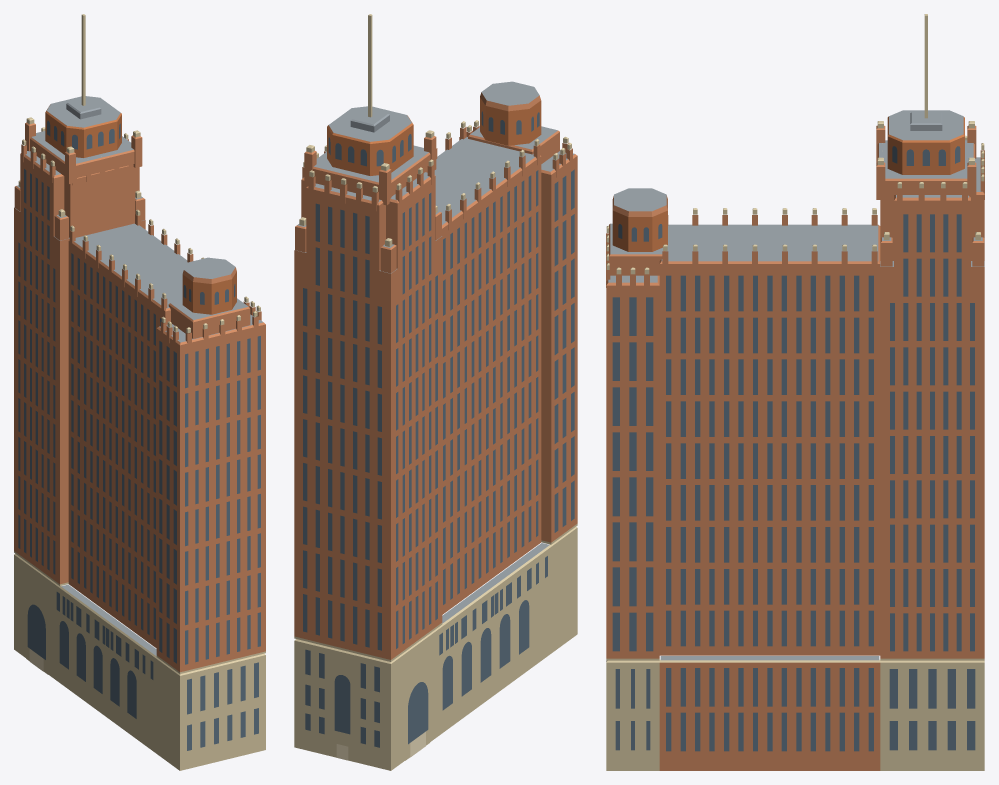
The model's file is det-guardian-building.glb.
3 renders of one model, left to right at view 1: azimuth 30°, elevation 25°; view 2: azimuth 150°, elevation 25°; view 3: azimuth 270°, elevation 25°, orthographic. The views are drawn at different scales.
Visible parts, largest first — view 1: Guardian Building; view 2: Guardian Building; view 3: Guardian Building.
Part boxes in pixels (x1,y1,x2,y2): Guardian Building: (14, 14, 265, 770); Guardian Building: (294, 14, 577, 770); Guardian Building: (606, 14, 984, 770).
Bounding box in the file's own units: 24.87 × 176 × 82.4.
